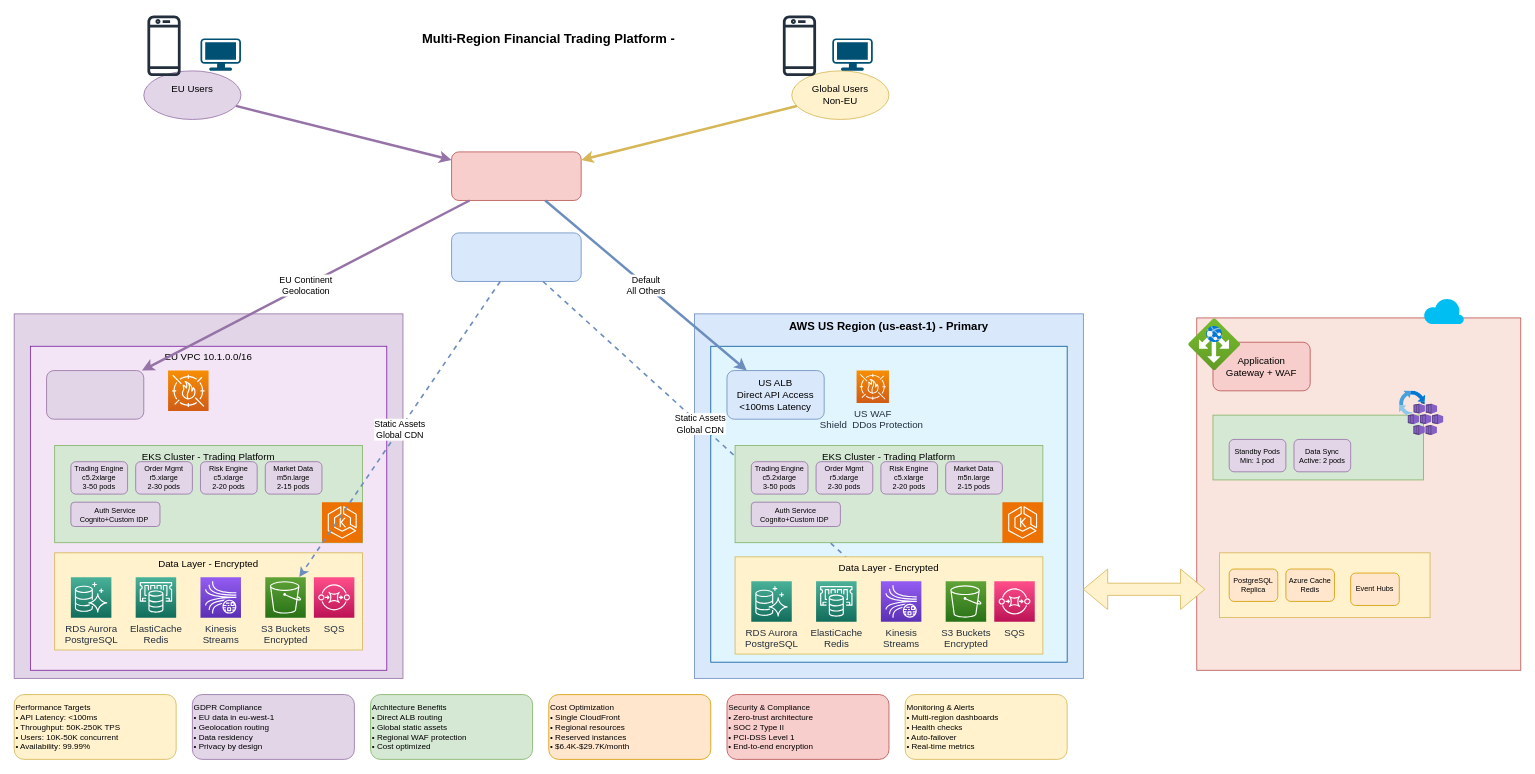
The diagram is 1535 pixels wide and 774 high, and some of its shapes have lost their labels. The box of each missing label's shape, as (x1, y1, x2, y2) in pixels:
AKS Cluster - Warm Standby: (1212, 414, 1424, 480)
AWS EU Region (eu-west-1): (13, 313, 403, 678)
Azure Data Layer: (1219, 552, 1430, 618)
Azure DR (East US 2): (1196, 317, 1521, 670)
EU ALB Direct API Access <100ms Latency: (46, 370, 144, 419)
EU WAF Shield DDos Protection: (167, 370, 209, 411)
Global CloudFront Static Assets Only CSS, JS, Images ( SSL /TLS Termination): (451, 232, 581, 281)
Route 53 Global DNS Geolocation Routing Health Checks: (451, 151, 581, 200)
Site-to-Site VPN 10 Gbps Encrypted: (1083, 568, 1205, 610)
US VPC 10.0.0.0/16: (710, 345, 1067, 662)
